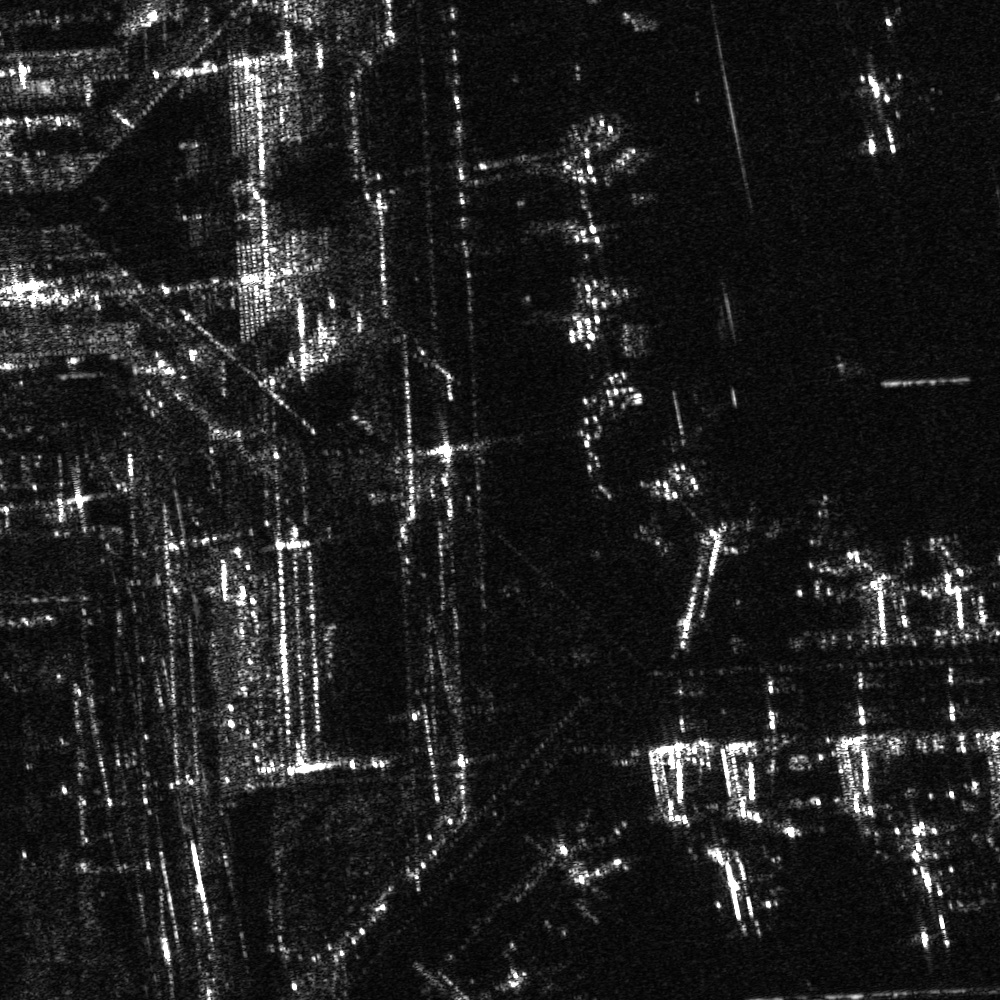A220: (689, 838, 785, 941)
A320/321: (429, 966, 542, 999)
Boeing737: (543, 839, 634, 910)
Boeing787: (858, 815, 966, 948)
other: (841, 71, 914, 158)
